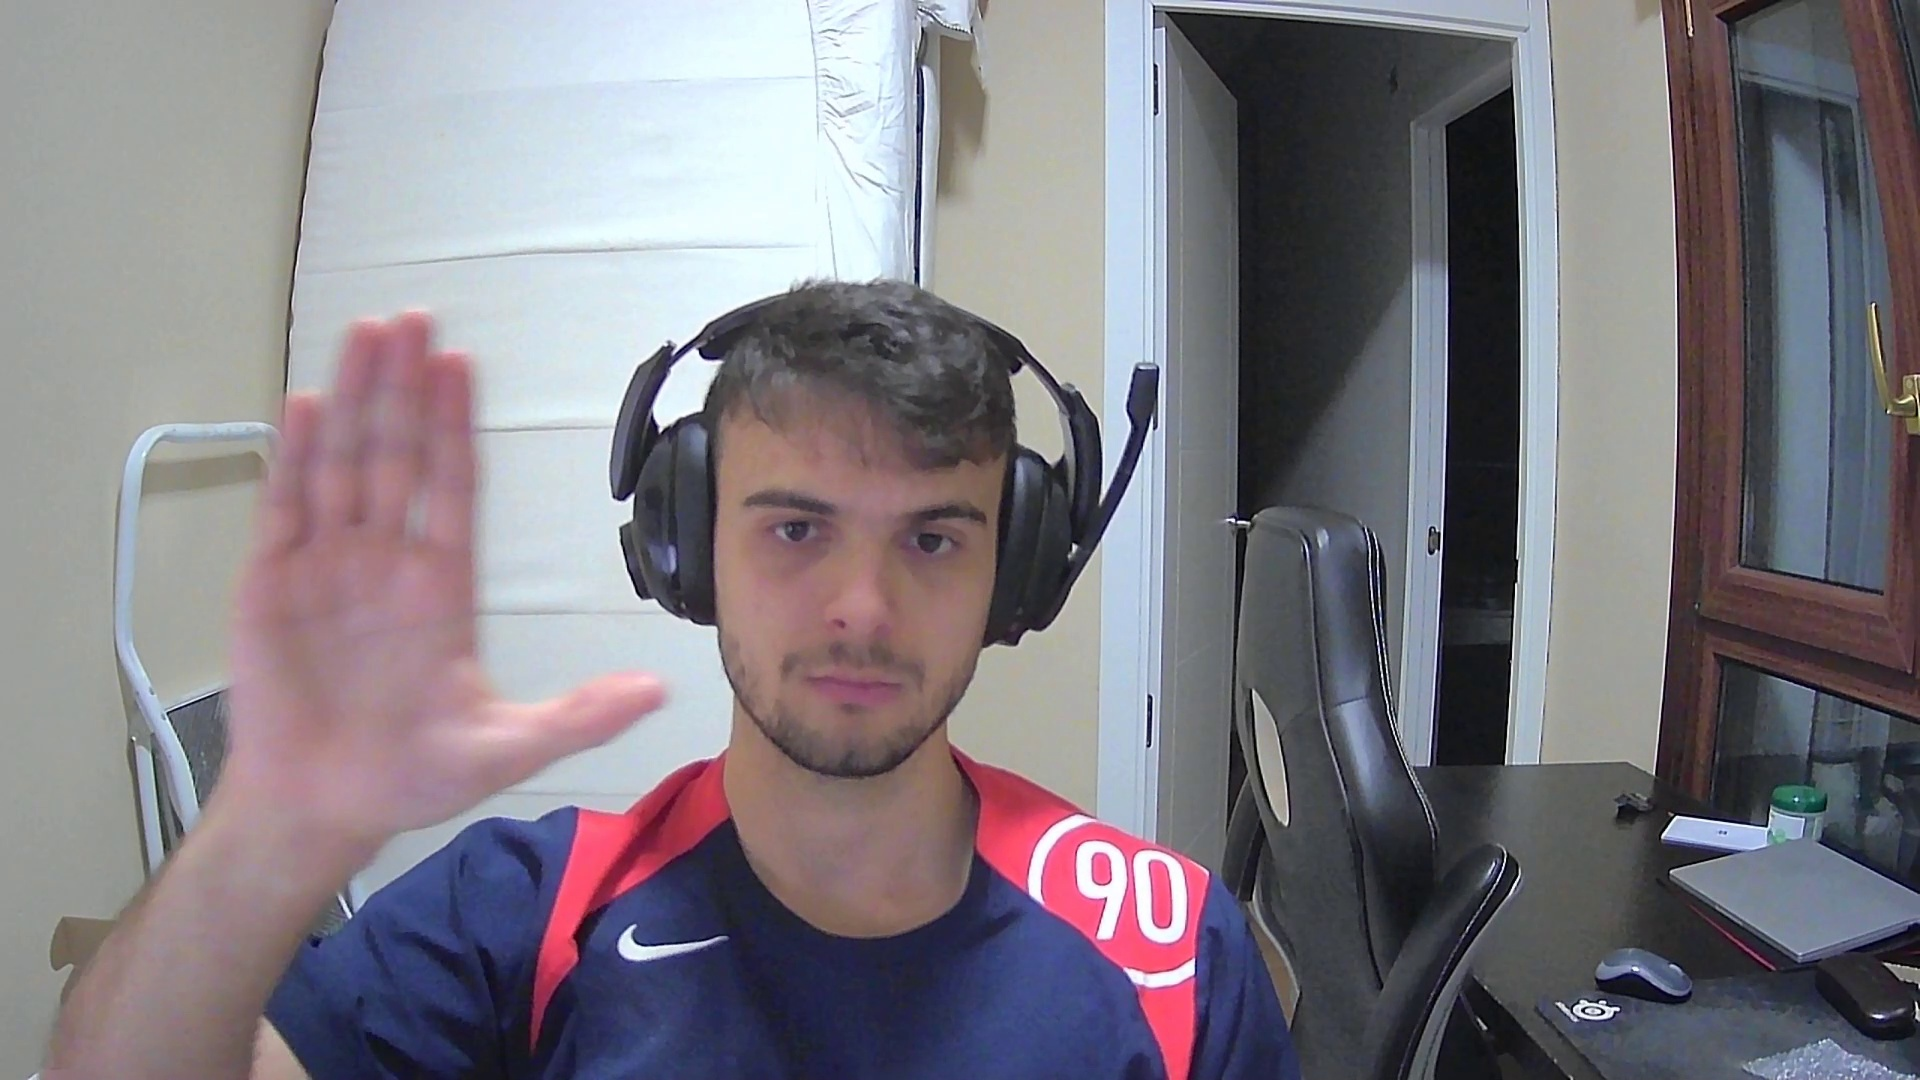Palm: (193, 305, 667, 823)
